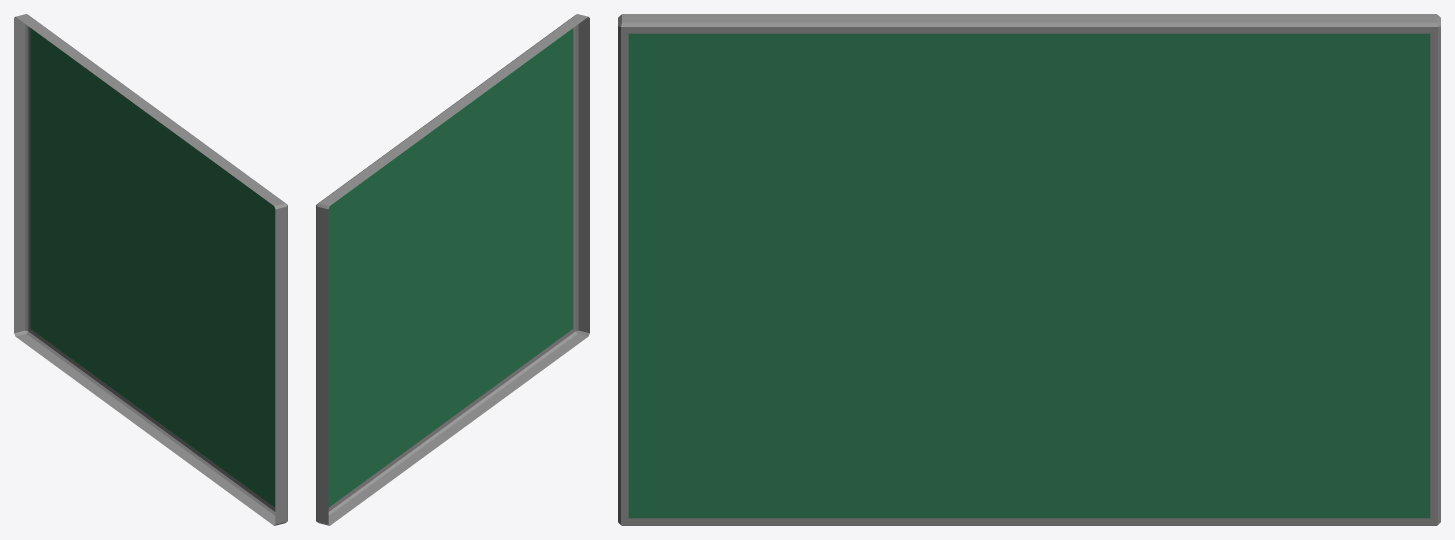
The model's file is Frame1920_1280.FBX.
The picture shows the model from 3 angles, left to right: view 1: azimuth 30°, elevation 25°; view 2: azimuth 150°, elevation 25°; view 3: azimuth 270°, elevation 25°; orthographic projection. The views are drawn at different scales.
Parts seen in each view (by area): view 1: Frame1920_1280; view 2: Frame1920_1280; view 3: Frame1920_1280.
Part boxes in pixels (x1,y1,x2,y2): Frame1920_1280: (14, 14, 287, 525); Frame1920_1280: (316, 14, 589, 525); Frame1920_1280: (618, 14, 1440, 525).
Size of the model in its own units: 5.79 by 133 by 197.
